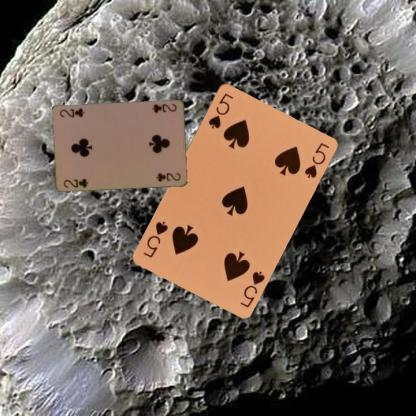2c: (150, 100, 178, 114), (61, 176, 90, 189)
5s: (237, 268, 266, 309), (206, 90, 235, 130)
